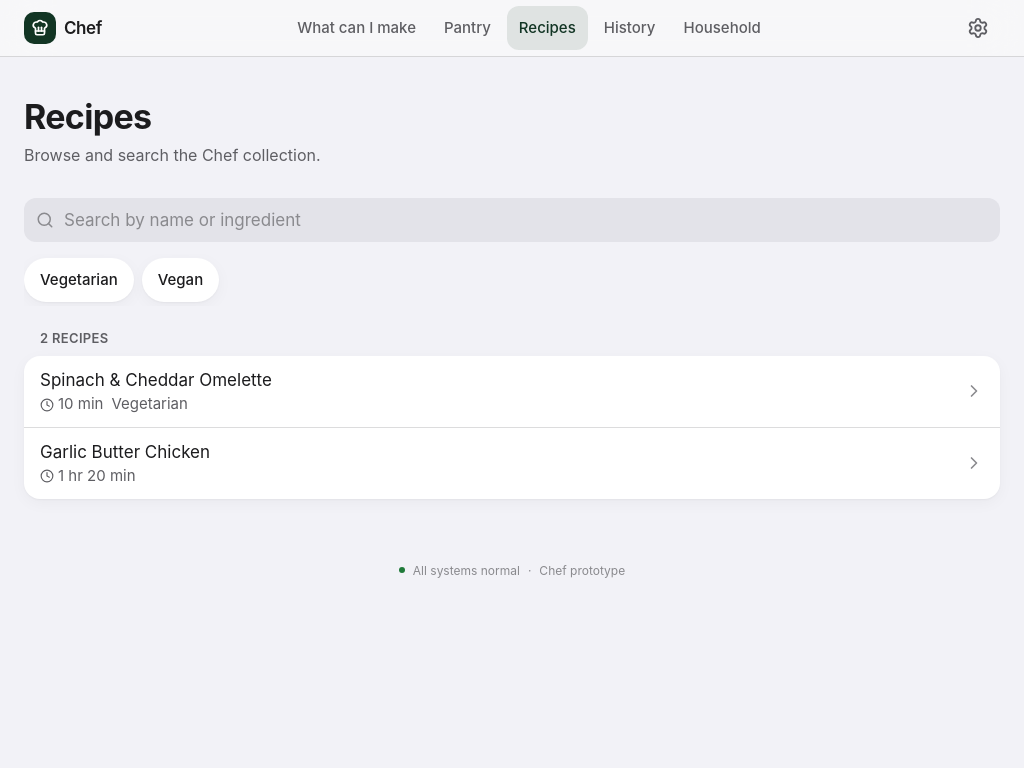
Test: RecipesPage › searches by name through the URL
Expected: the heading "2 recipes" is shown, [40,330,108,346]
In the search field named "Search recipes": (512, 220) [24,198,1000,242], type "omelette"
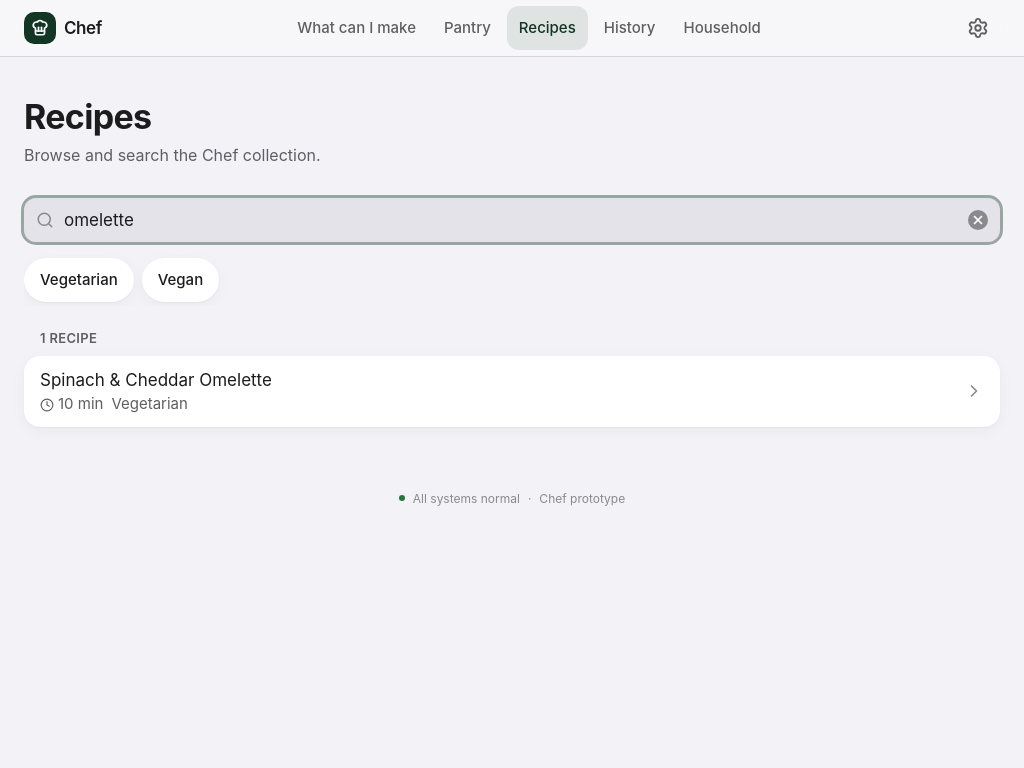
Now the heading "1 recipe" is shown, box [40,330,97,346]
